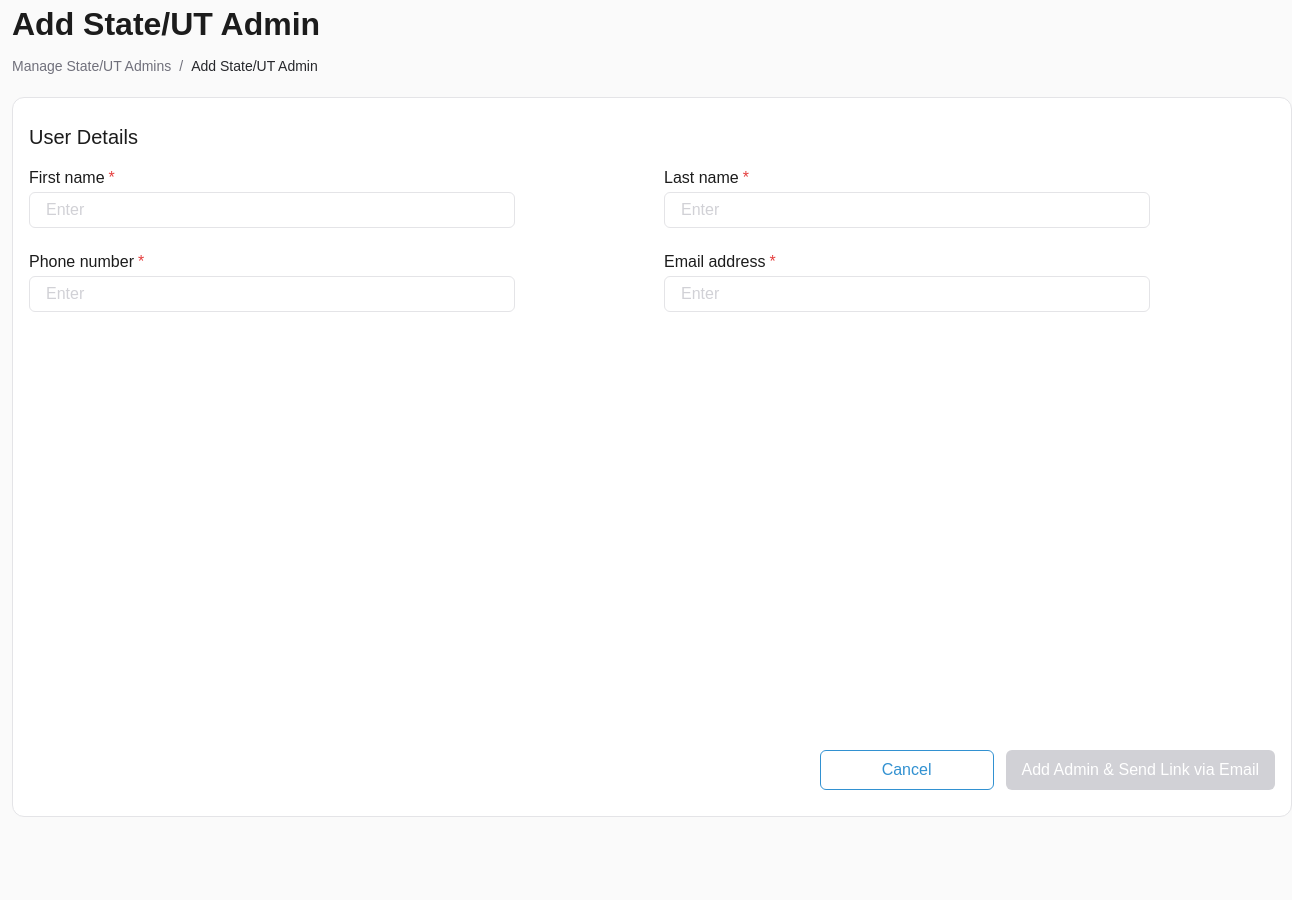
it: InviteStateUTAdminPage › phone number validation › shows invalid error for partial phone number
This screenshot has width=1292, height=900.
Type "12345" into the field labelled "Phone number*" at (272, 294), box x1=29 y1=276 x2=515 y2=312
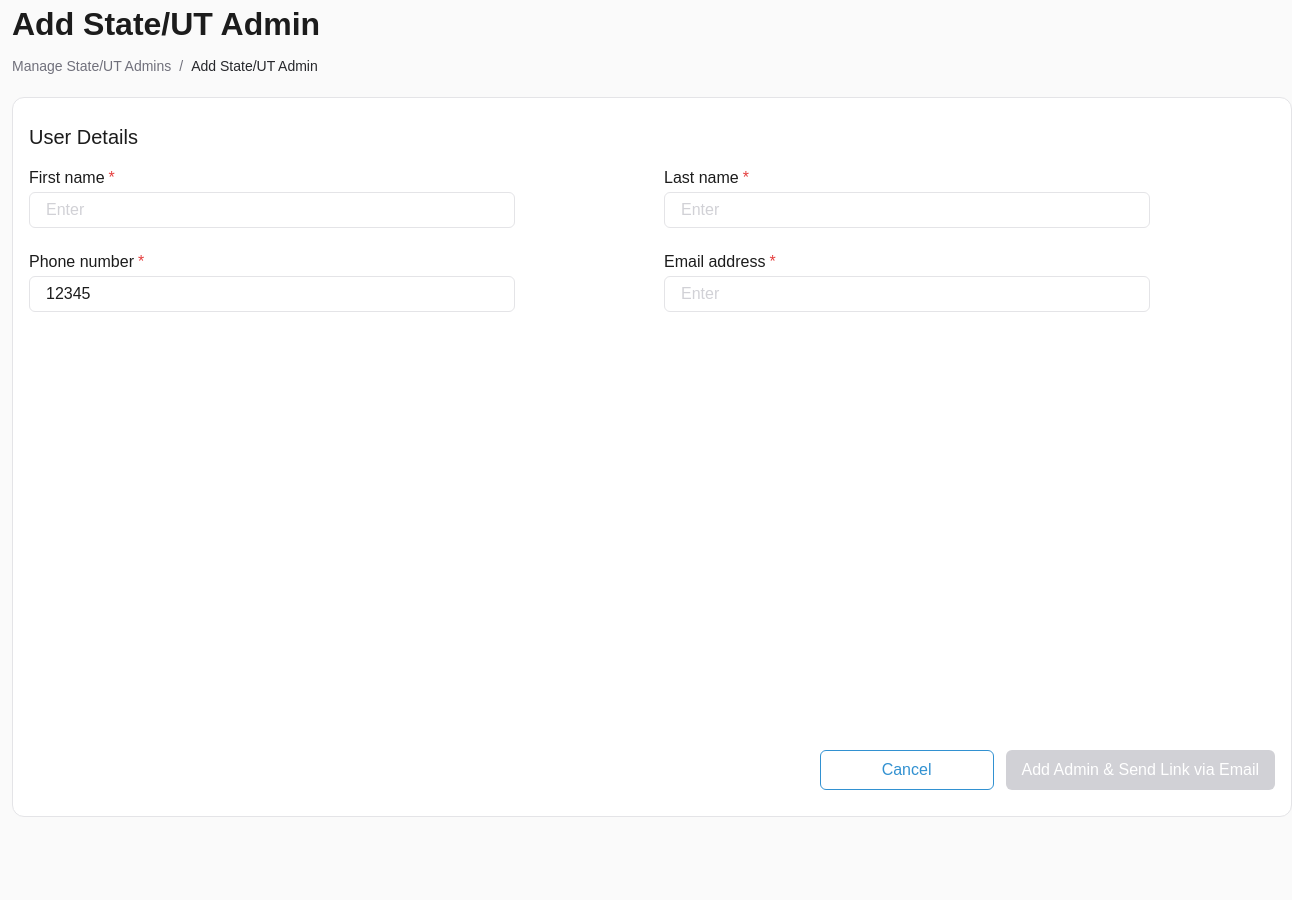
Leave the field labelled "Phone number*", box x1=29 y1=276 x2=515 y2=312
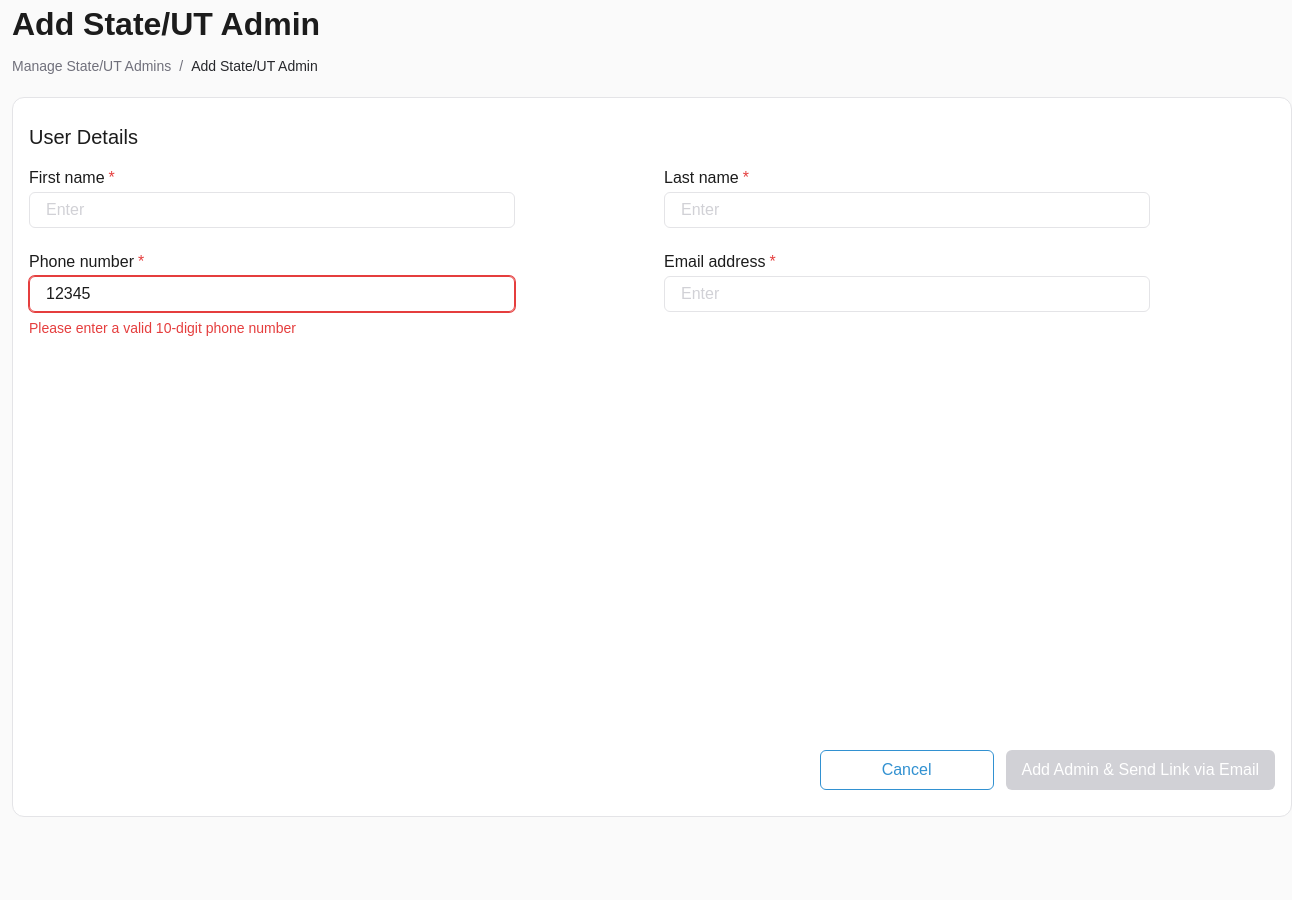
Expected: the text "Please enter a valid 10-digit phone number" is shown, x1=29 y1=320 x2=296 y2=336
